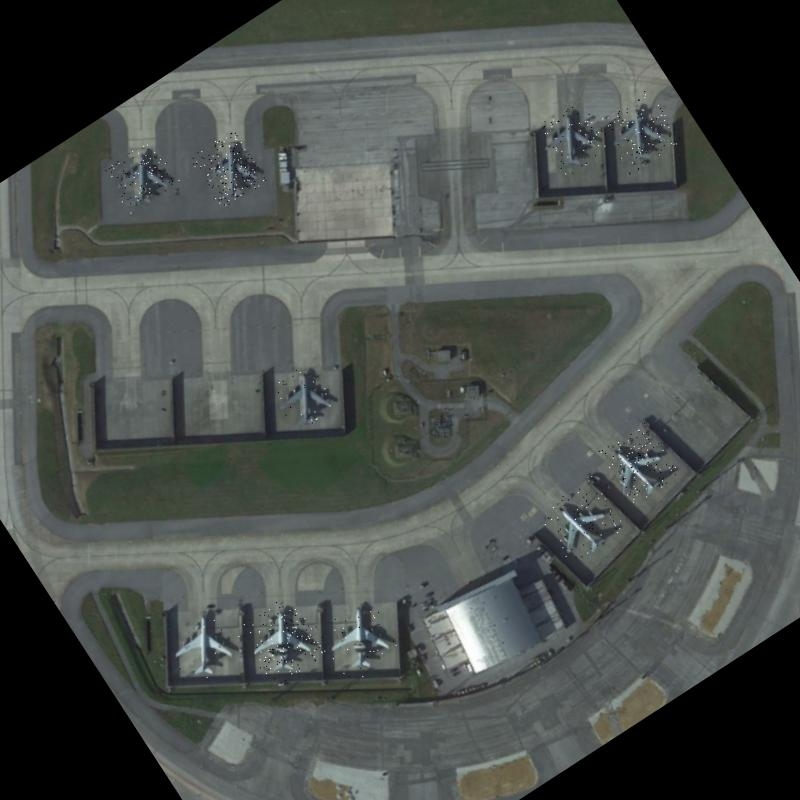A11: (154, 598, 246, 694), (536, 476, 630, 569), (599, 420, 681, 506)
A14: (597, 88, 684, 176), (189, 129, 267, 210), (534, 98, 612, 178), (266, 354, 344, 433), (102, 138, 181, 214)
A7: (308, 588, 406, 686), (234, 594, 329, 690)
